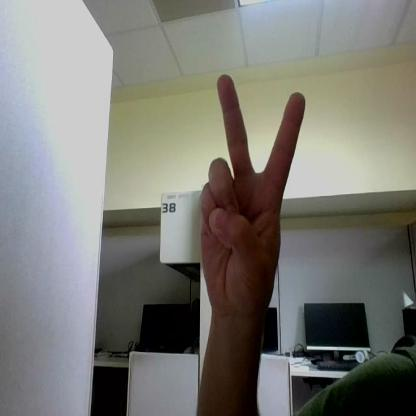V: (200, 74, 306, 304)
